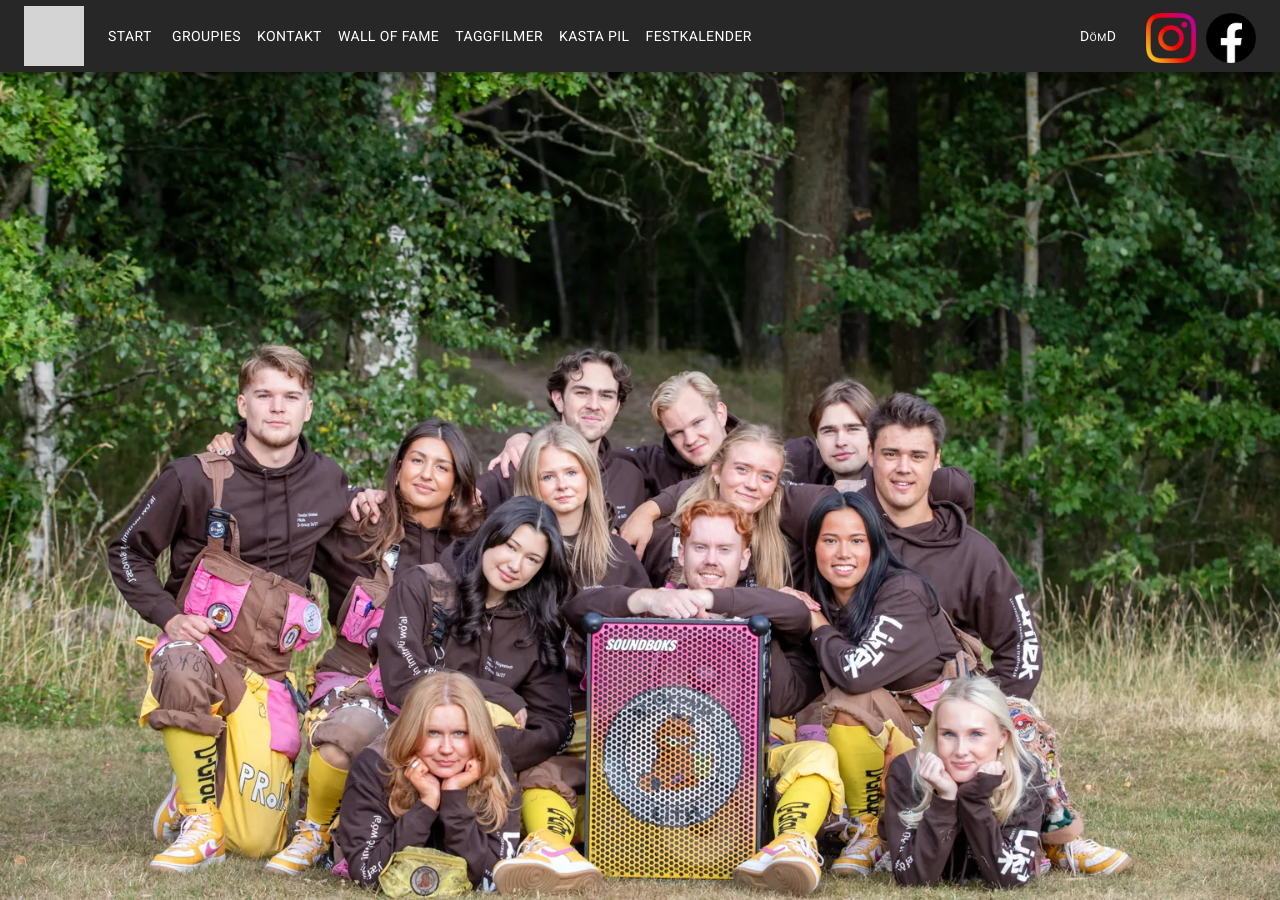
Test: navigates from the homepage to contact information
Click the link "Kontakt" at point(289, 36), box [257,28,322,44]
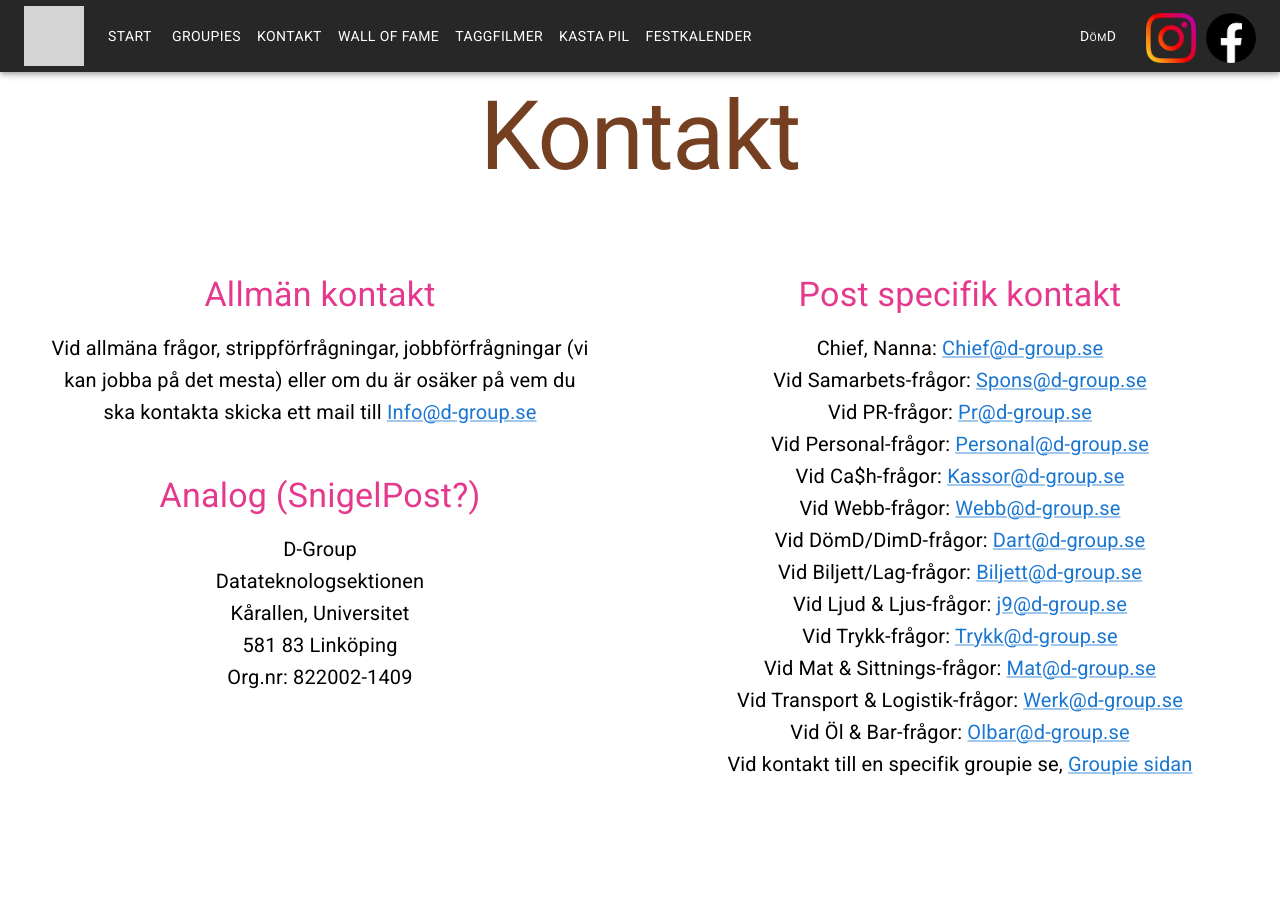
Now the text "Allmän kontakt" is shown, box [204,274,436,314]
